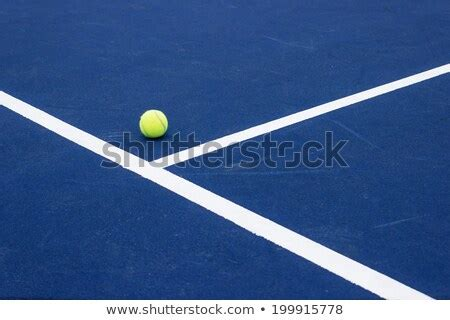tennis_ball: (138, 109, 168, 138)
